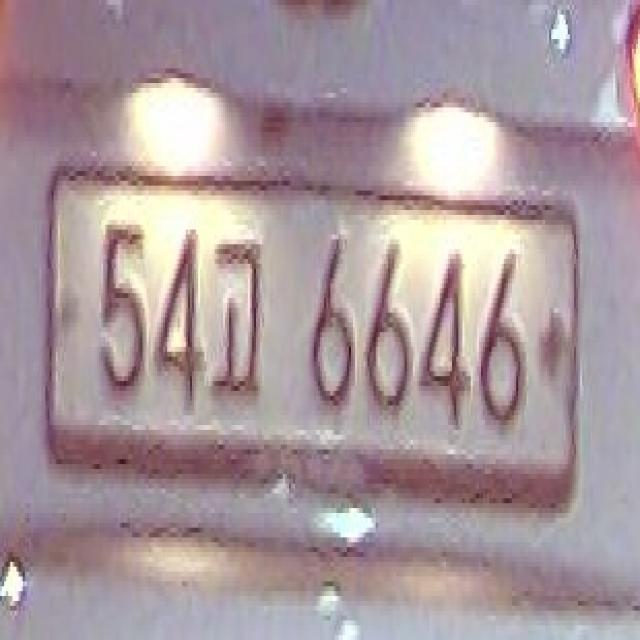4: (151, 222, 207, 428), (415, 230, 468, 444)
5: (92, 203, 148, 407)
6: (472, 236, 534, 449), (302, 220, 360, 432), (362, 222, 412, 434)
go: (212, 232, 264, 409)
license_plate: (44, 150, 585, 534)
